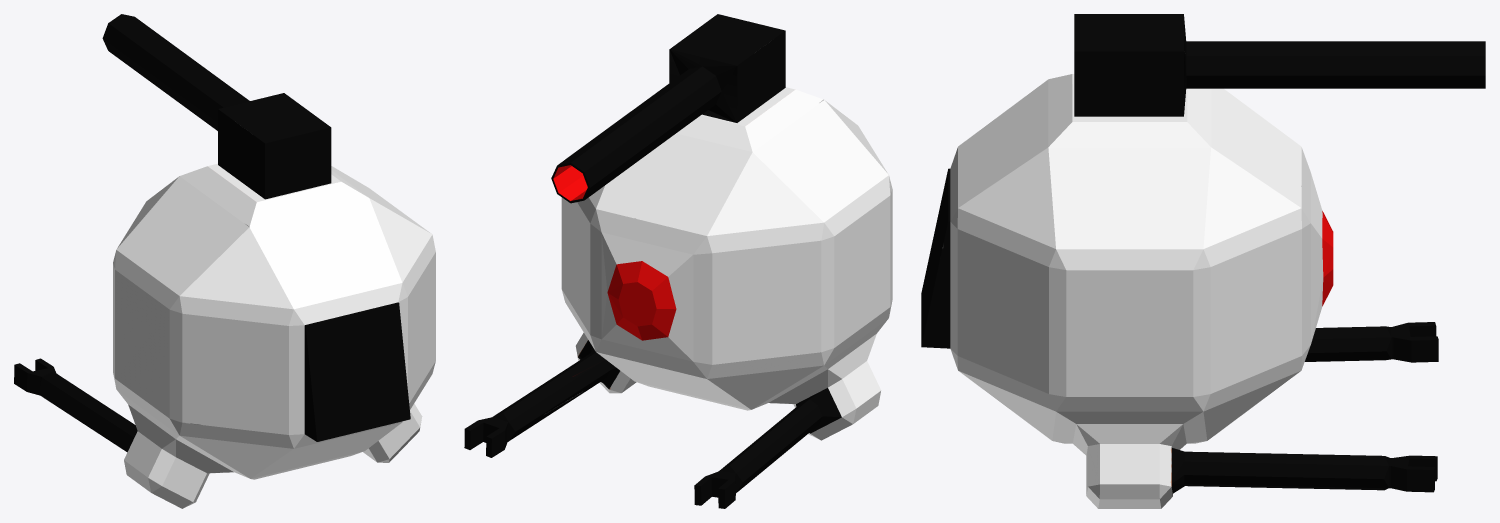
File: bpa01.fbx
The picture shows the model from 3 angles, left to right: view 1: azimuth 30°, elevation 25°; view 2: azimuth 150°, elevation 25°; view 3: azimuth 270°, elevation 25°; orthographic projection. The views are drawn at different scales.
Parts seen in each view (by area): view 1: Cube; view 2: Cube; view 3: Cube.
Part boxes in pixels (box(x1,y1,x2,y2)): Cube: box(14, 14, 435, 508); Cube: box(464, 14, 892, 508); Cube: box(921, 14, 1485, 508).
Size of the model in its own units: 186 by 234 by 286.
Materials: 1 (1 with a texture image).
